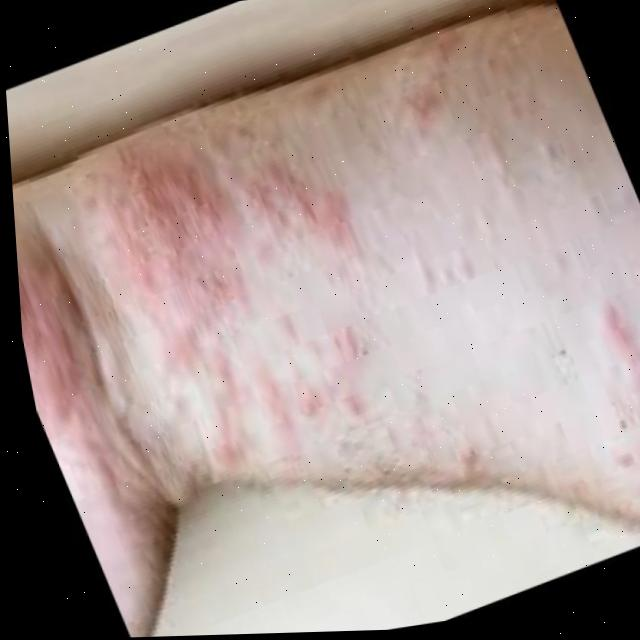Eczema: (90, 18, 640, 504)
